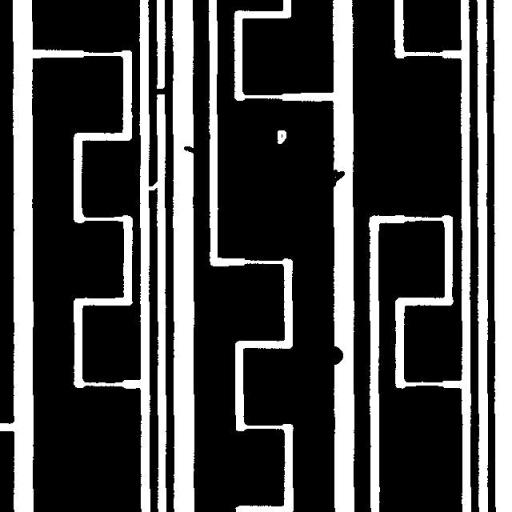open: (137, 174, 168, 198)
pin-hole: (270, 122, 294, 152)
short: (145, 79, 175, 102)
spur: (317, 338, 350, 372), (322, 162, 352, 195), (176, 138, 204, 162)
